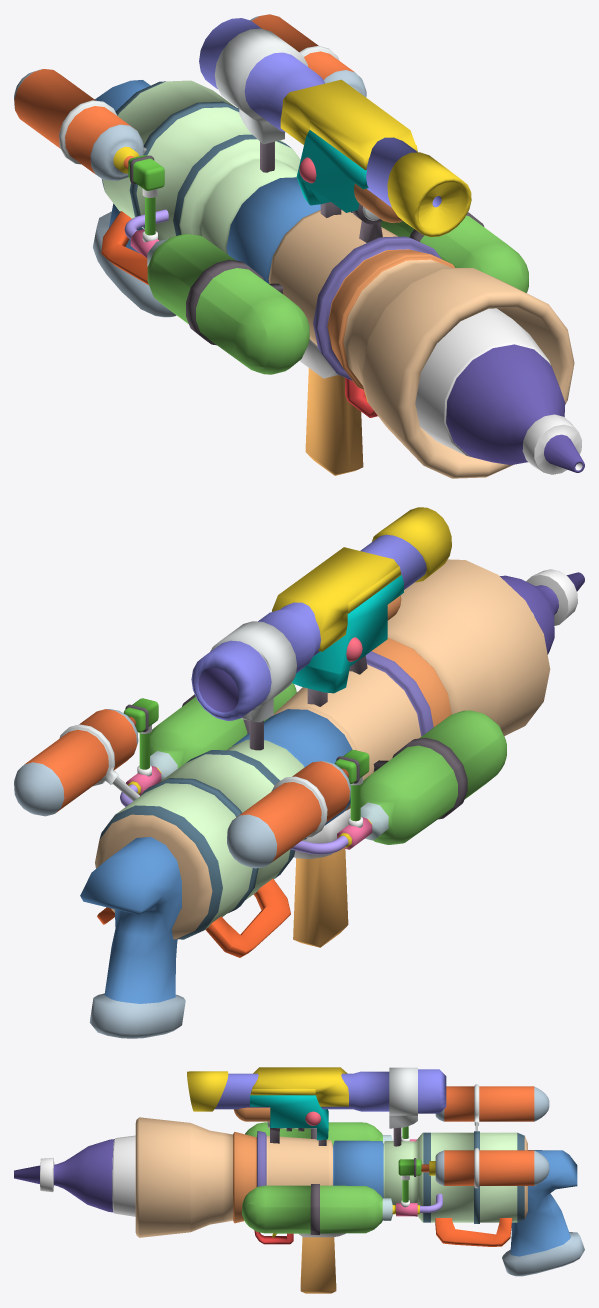
The model's file is Watergun20.fbx.
3 views of the same model, one above another, from view 1: azimuth 30°, elevation 25°; view 2: azimuth 150°, elevation 25°; view 3: azimuth 270°, elevation 25° (orthographic). The views are drawn at different scales.
Visible parts, largest first — view 1: Watergun20; view 2: Watergun20; view 3: Watergun20.
Boxes of the visible parts, bbox=[...] form: Watergun20: bbox=[14, 14, 584, 478]; Watergun20: bbox=[14, 507, 584, 1038]; Watergun20: bbox=[14, 1067, 584, 1293].
Size of the model in its own units: 0.1637 by 0.1992 by 0.4659.
